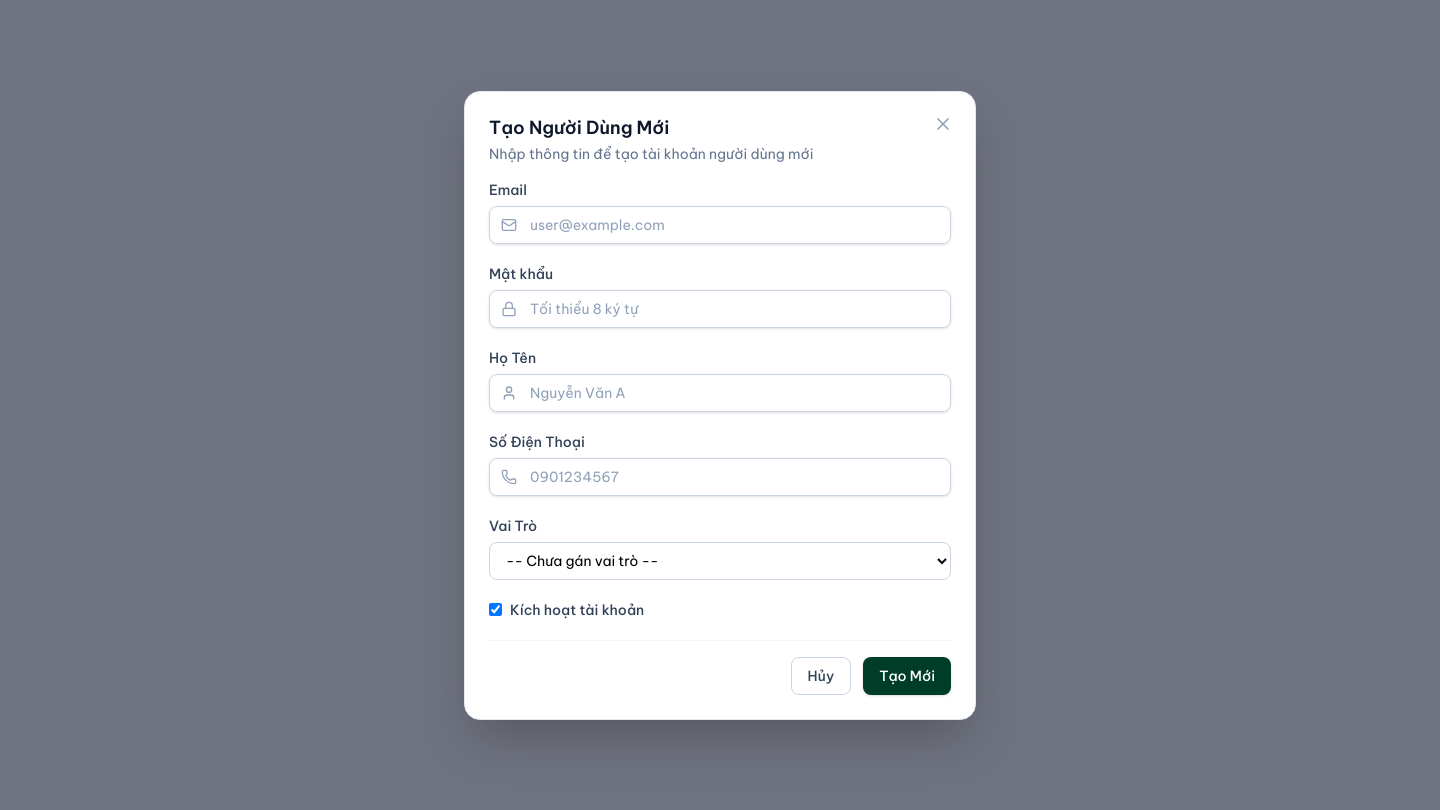
Test case: UserFormModal › requires a password when creating a new user
Type "jane@example.com" into the field labelled "Email". click: (720, 224)
box: x1=489 y1=206 x2=951 y2=244
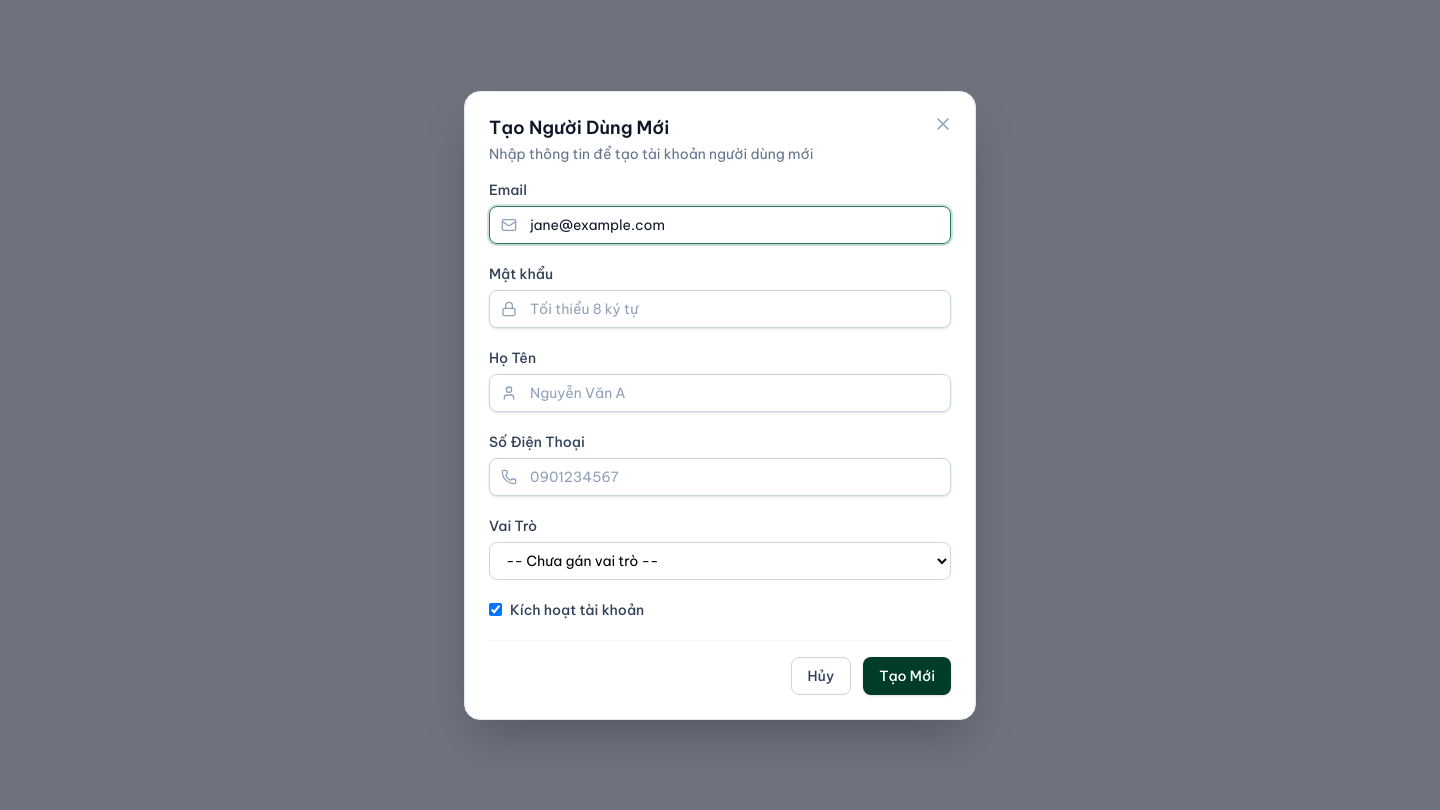
Type "Jane Doe" into the field labelled "Họ Tên". click: (720, 392)
box: x1=489 y1=374 x2=951 y2=412
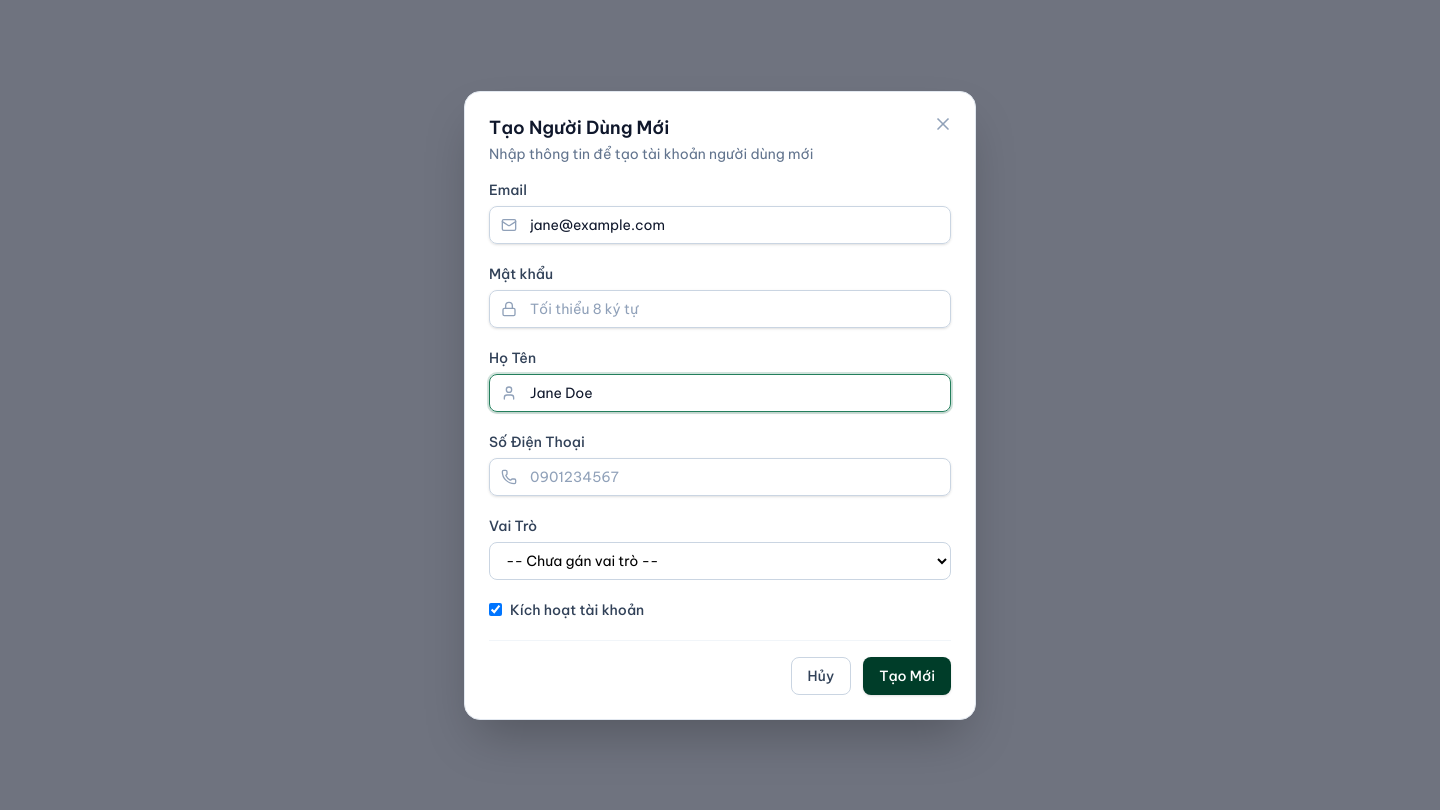
Click the button "Tạo Mới". click: (907, 676)
box: x1=863 y1=656 x2=951 y2=694
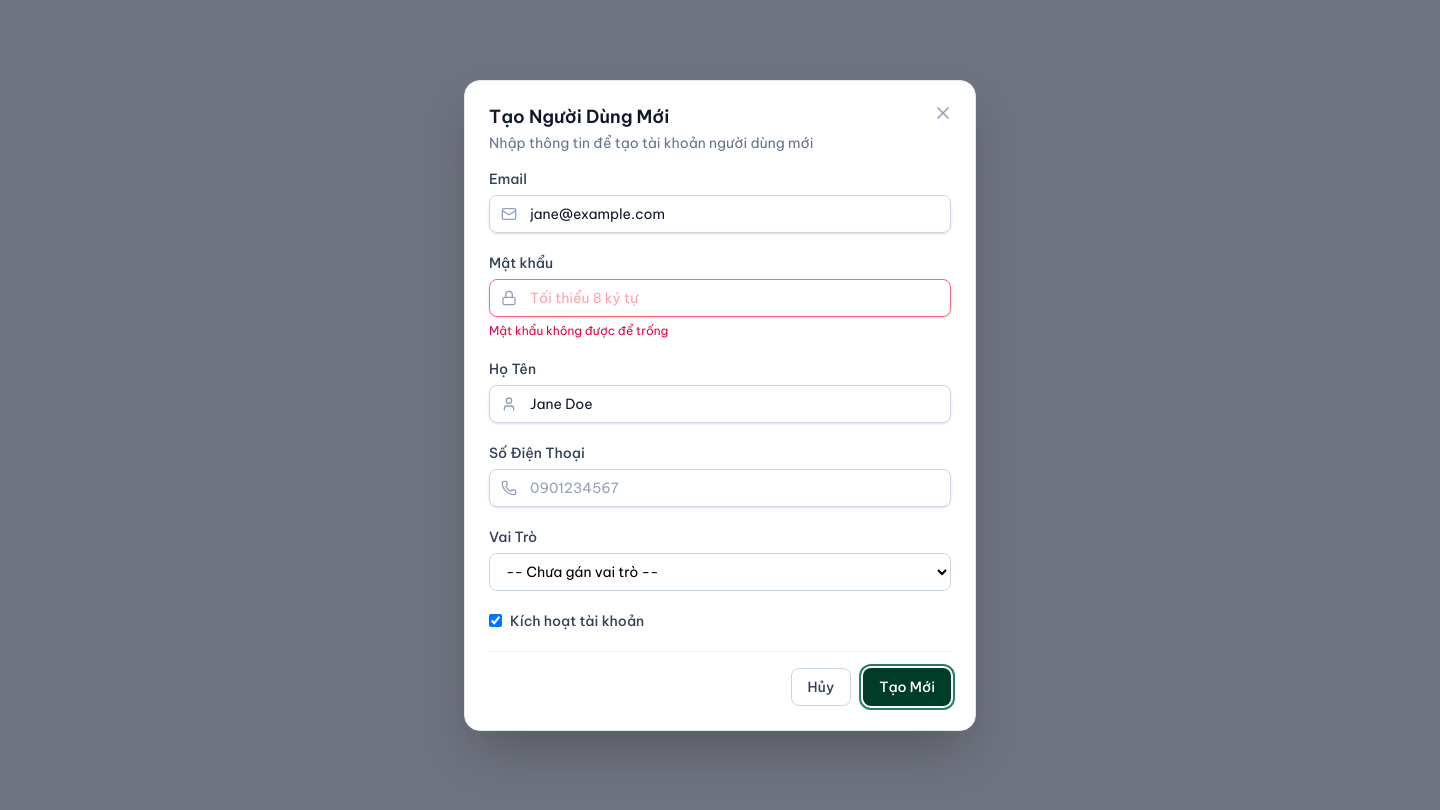
Expected: the text "Mật khẩu không được để trống" is shown, x1=489 y1=322 x2=668 y2=338
